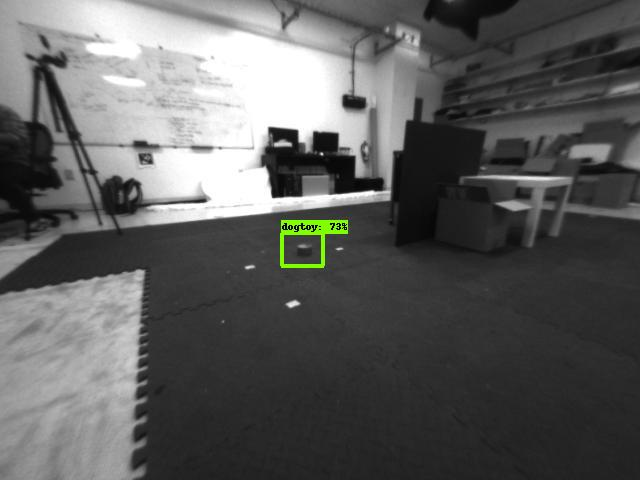dogtoy: (274, 234, 324, 267)
